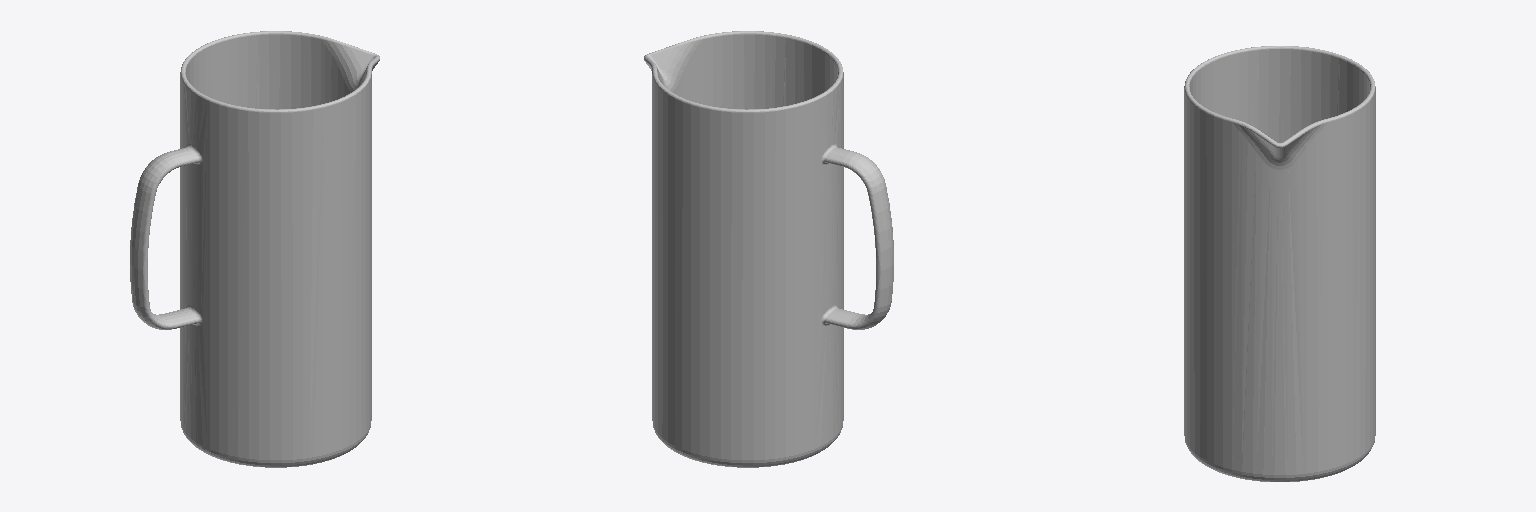
File: 9-5 Jug.obj
3 renders of one model, left to right at view 1: azimuth 30°, elevation 25°; view 2: azimuth 150°, elevation 25°; view 3: azimuth 270°, elevation 25°, orthographic.
Parts seen in each view (by area): view 1: Jug v1.2; view 2: Jug v1.2; view 3: Jug v1.2.
Boxes of the visible parts, x1=… form: Jug v1.2: x1=130, y1=31, x2=379, y2=467; Jug v1.2: x1=644, y1=31, x2=893, y2=467; Jug v1.2: x1=1184, y1=46, x2=1375, y2=481.
Bounding box in the file's own units: 178 × 250 × 120.